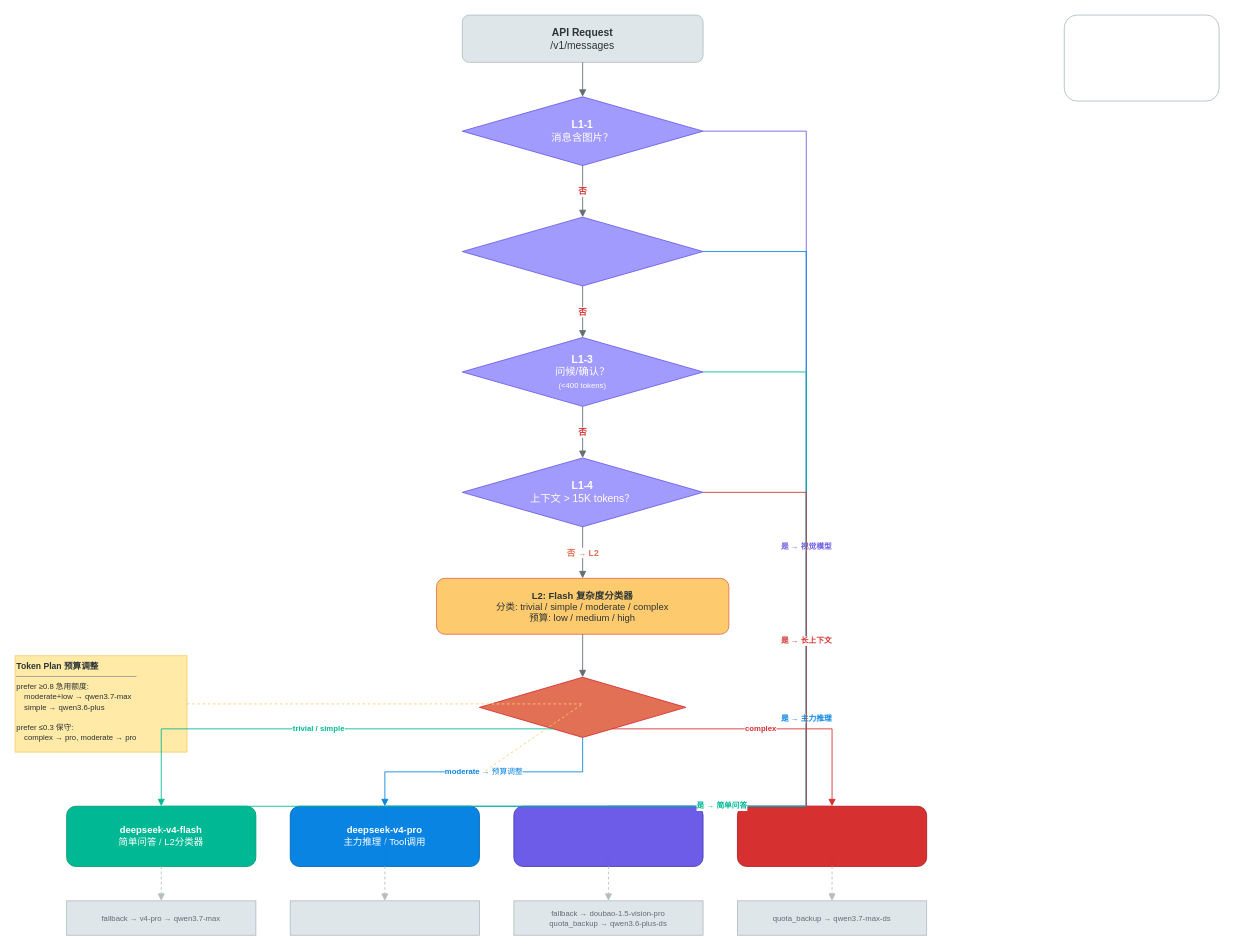
This 1234x950 diagram has some shape labels left out. Each missing label, with the centre of its shape:
fallback → qwen3.7-max quota_backup → qwen3.7-max-ds: point (384, 917)
L1-2 最近5条有Tool调用？: point (582, 251)
qwen3.6-plus 百炼视觉 / 图片处理: point (608, 835)
qwen3.7-max 长上下文 / 复杂推理: point (832, 835)
图例 ◆ L1 快速规则 (router.py) ◆ L2 分类器 (model_proxy.py) ■ 目标模型 — fallback 降级链: point (1141, 57)
复杂度 → 模型: point (582, 706)
